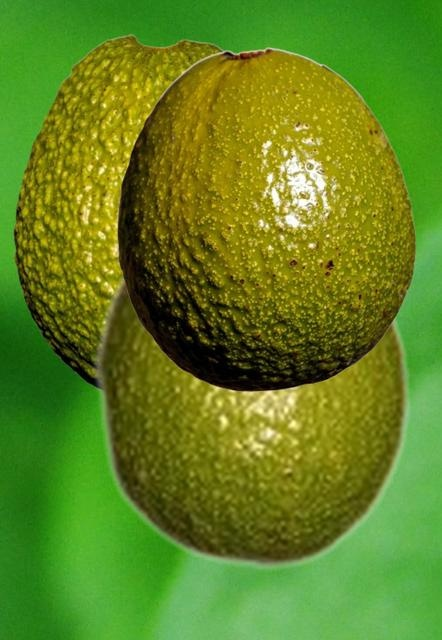avocado: (117, 47, 415, 390), (92, 270, 412, 572), (13, 34, 226, 388)
